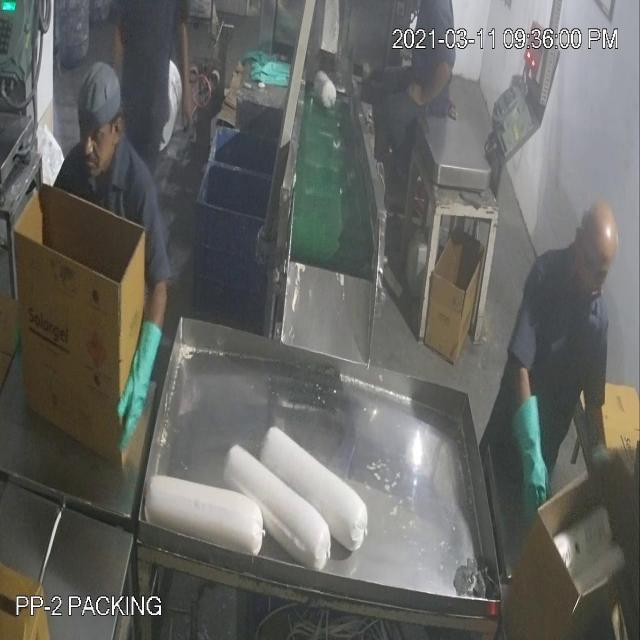Gloves: (26, 60, 532, 453)
